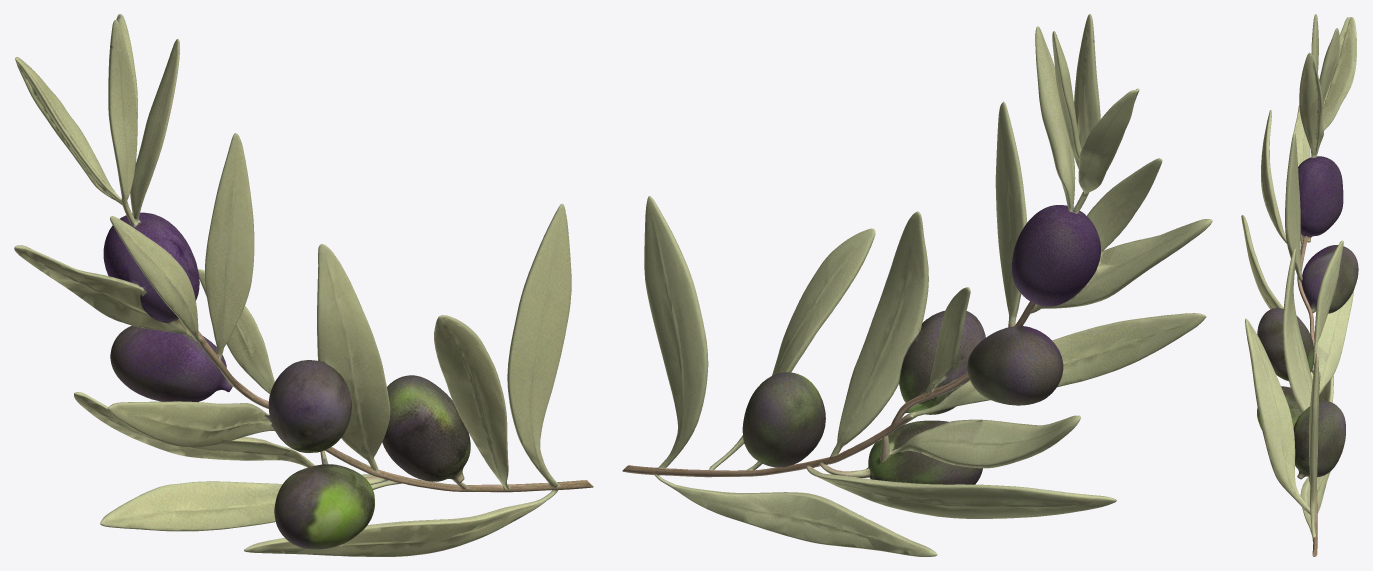
Rendered from olive_branch.glb.
The picture shows the model from 3 angles, left to right: view 1: azimuth 30°, elevation 25°; view 2: azimuth 150°, elevation 25°; view 3: azimuth 270°, elevation 25°; orthographic projection. The views are drawn at different scales.
Bounding box in the file's own units: 1.9 × 1.87 × 0.491.
Materials: 1 (1 with a texture image).
